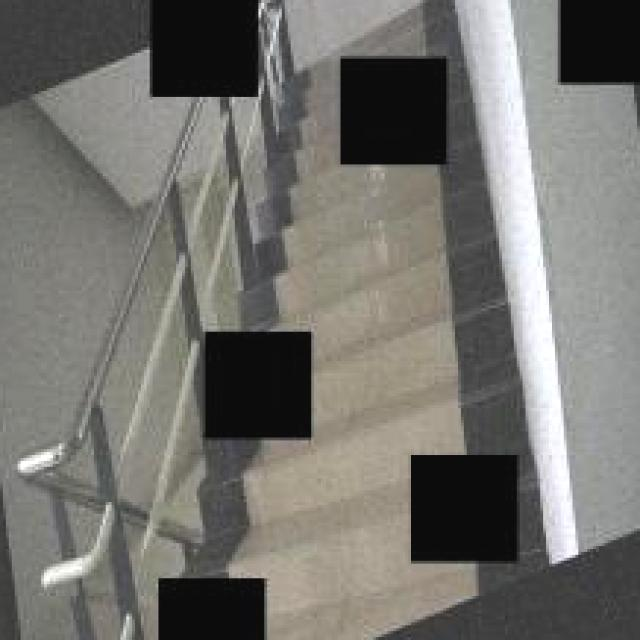upstair: (251, 174, 527, 333)
